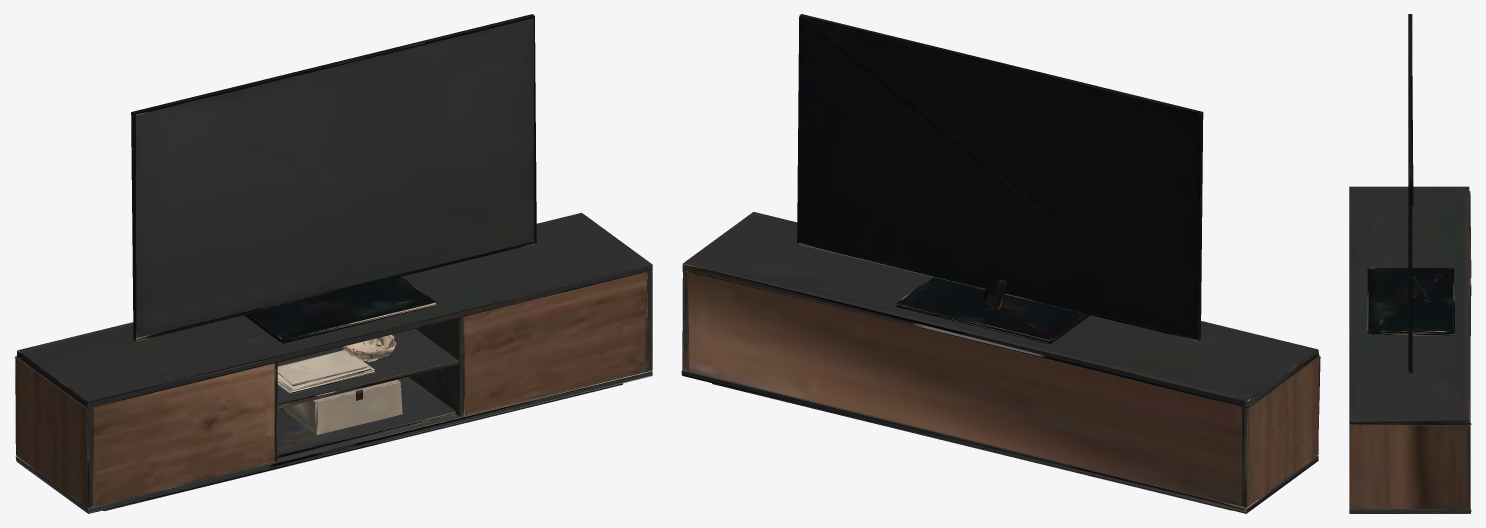
The model's file is mobile.glb.
3 views of the same model, side by side, from view 1: azimuth 30°, elevation 25°; view 2: azimuth 150°, elevation 25°; view 3: azimuth 270°, elevation 25° (orthographic). The views are drawn at different scales.
Visible parts, largest first — view 1: tv; view 2: tv; view 3: tv.
Part boxes in pixels (x1,y1,x2,y2): tv: [14, 14, 652, 513]; tv: [681, 14, 1320, 513]; tv: [1349, 14, 1471, 513].
Size of the model in its own units: 1.24 by 0.7585 by 0.2736.
1 material, 1 textured.
